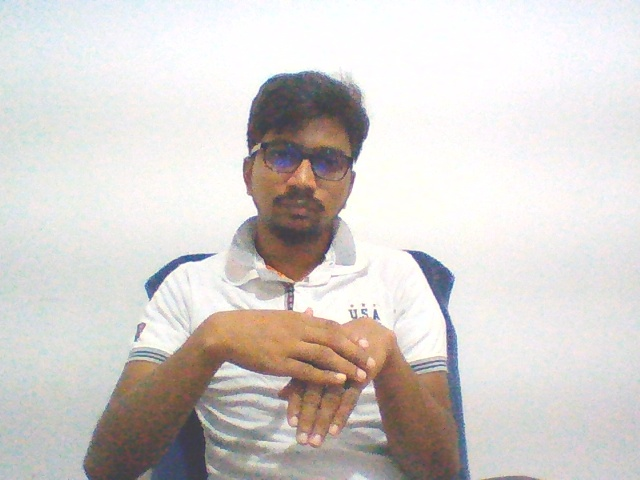pineapple: (201, 295, 398, 455)
